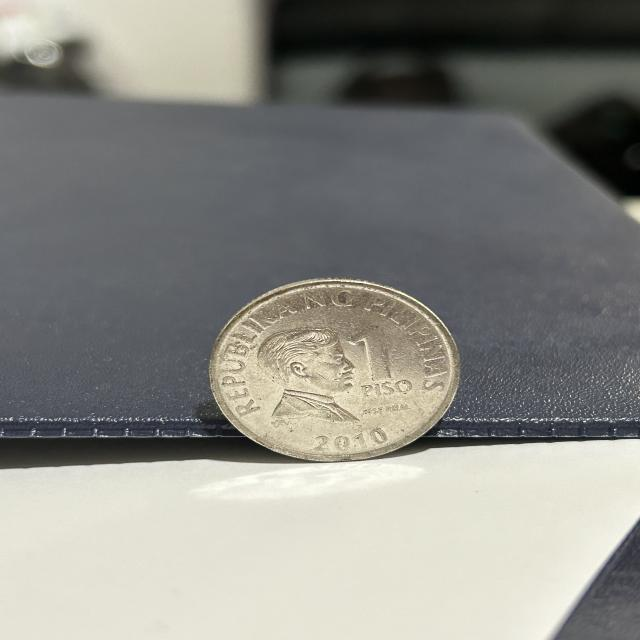1_Old_Front: (344, 323, 418, 403)
